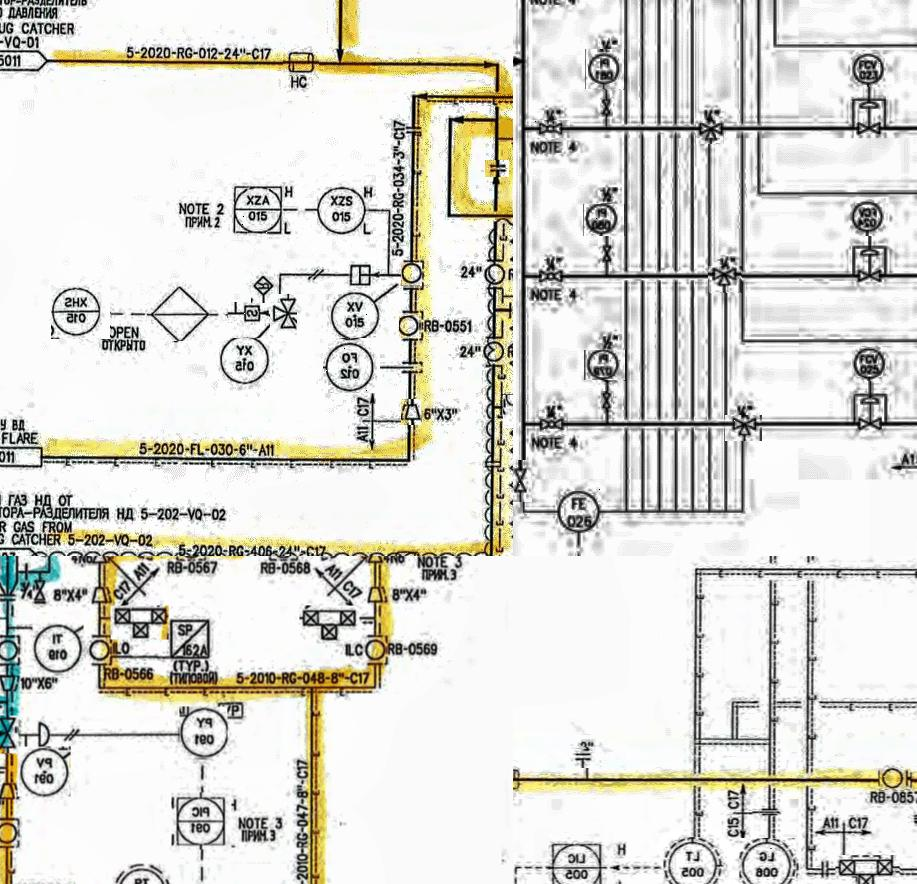2 WAY VALVE: (300, 605, 361, 639), (110, 606, 169, 641), (836, 856, 901, 884)
3 WAY GENERAL VALVE: (271, 295, 299, 337), (709, 266, 743, 294), (726, 415, 762, 441), (696, 120, 724, 144)
ANGLE RELIEF VALVE: (359, 556, 389, 568)
CONCENTRIC REDUCER: (401, 400, 421, 427), (89, 582, 110, 607), (367, 582, 388, 604), (0, 670, 20, 693), (0, 780, 19, 804)
DCS ACCESSIBLE: (171, 793, 231, 851), (549, 833, 615, 884), (230, 182, 286, 238)
DIAPHRAGM ACTUATED VALVE: (851, 246, 889, 287), (852, 99, 885, 142), (854, 397, 884, 435)
DUPLEX RECEPTACLE: (284, 47, 320, 77), (513, 763, 531, 799)
END CAP: (30, 716, 56, 749)
END FLANGED: (570, 748, 599, 769), (752, 801, 779, 820), (485, 160, 510, 177)
FIELD INSTRUMENT: (324, 338, 382, 393), (663, 838, 723, 884), (18, 746, 72, 796), (219, 339, 272, 389), (318, 184, 368, 236), (328, 292, 382, 340), (739, 839, 796, 884), (32, 625, 83, 675), (179, 707, 227, 759), (555, 488, 605, 535), (107, 860, 176, 884), (586, 49, 626, 90), (848, 52, 890, 87), (850, 198, 888, 236), (583, 204, 626, 236), (585, 351, 627, 382), (853, 348, 888, 382), (878, 764, 910, 792), (88, 632, 112, 666), (0, 816, 21, 847), (0, 634, 20, 664), (365, 638, 388, 662), (401, 264, 422, 288), (400, 316, 421, 338)
GATE VALVE: (513, 460, 532, 502), (0, 716, 19, 755), (32, 572, 49, 604), (600, 244, 613, 265), (600, 98, 613, 118), (601, 392, 613, 412)
HARDWIRED INTERLOCK FIELD: (251, 271, 274, 305)
HARDWIRED INTERLOCK PRIMARY.: (147, 280, 209, 341)
PANEL INSTRUMENT: (52, 286, 112, 341)
PLUG VALVE: (535, 414, 568, 436), (534, 267, 568, 287), (531, 121, 570, 138)
SPECIAL PIPING ITEM: (167, 615, 217, 661)
SPEED FLOW METER: (228, 303, 269, 325)
